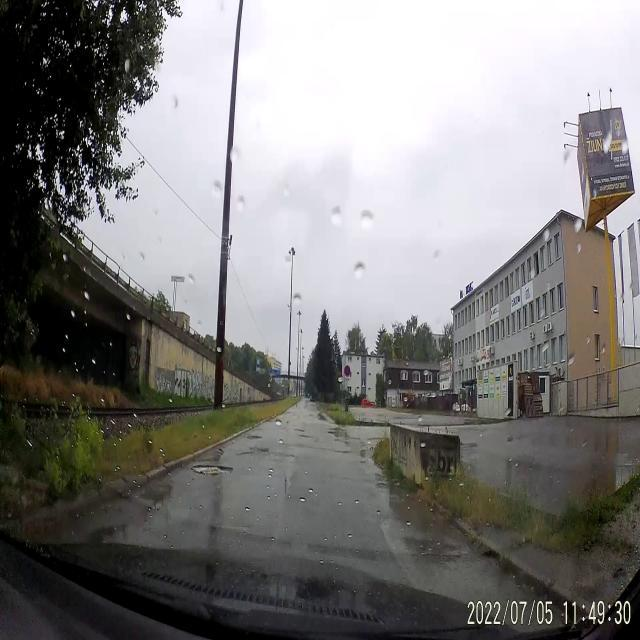Pothole: (190, 456, 237, 482), (296, 426, 312, 439), (250, 447, 269, 455), (248, 435, 262, 443)
